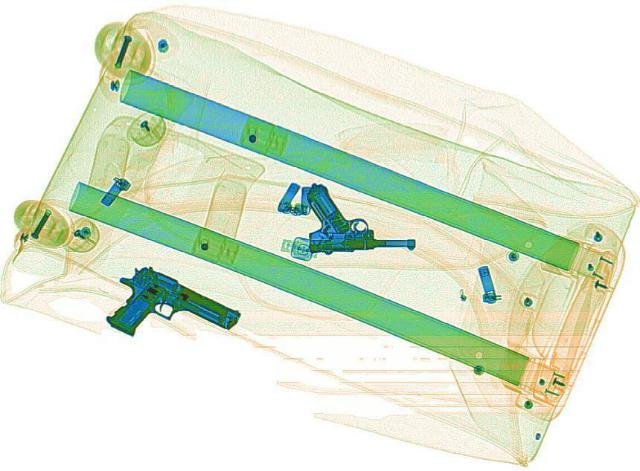Gun: (80, 260, 246, 365), (304, 179, 414, 252)
